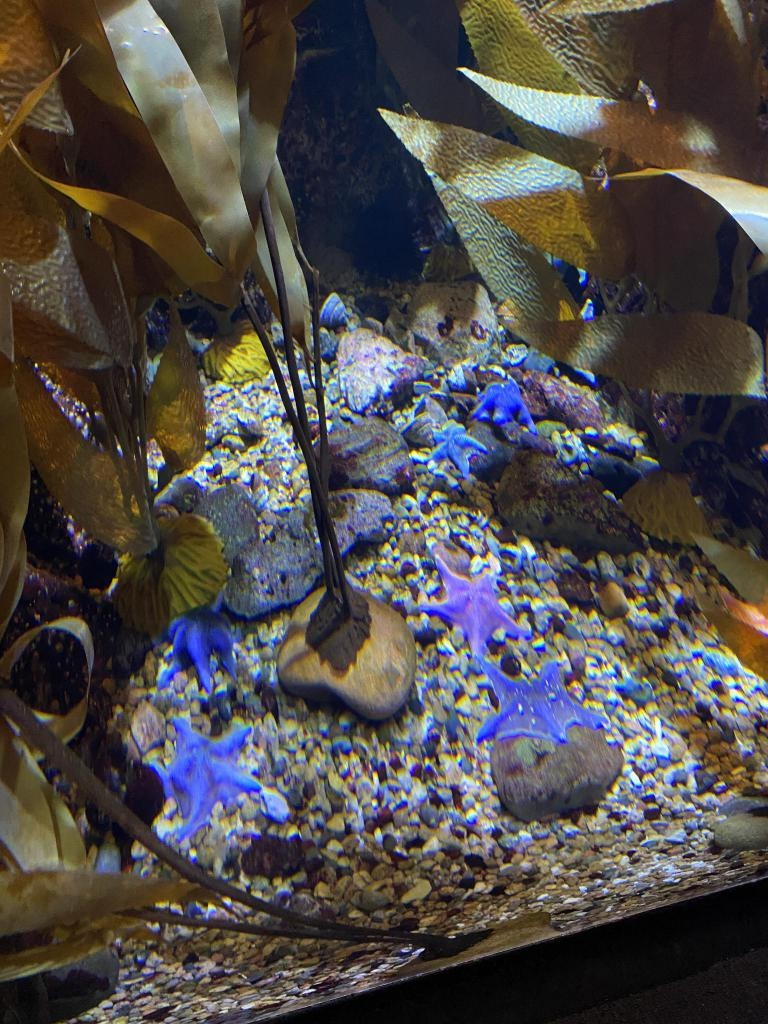starfish: (152, 712, 262, 848), (468, 656, 606, 748), (419, 555, 524, 661), (152, 594, 238, 698), (468, 374, 533, 436), (424, 421, 484, 475)
